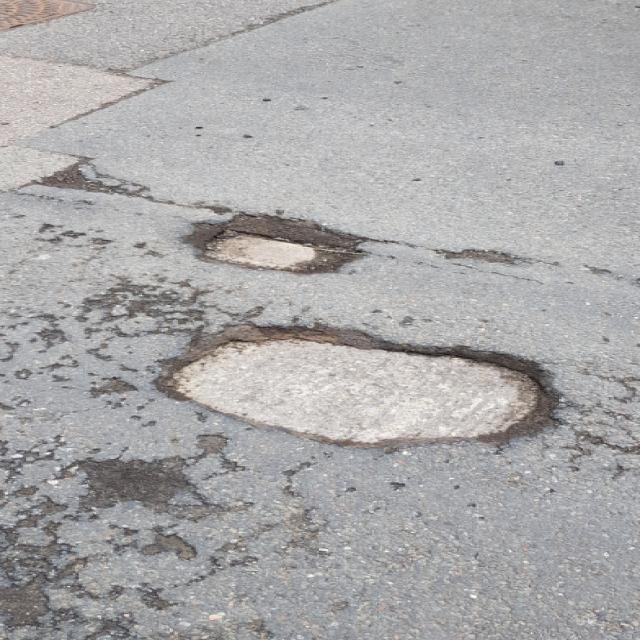pothole: (146, 312, 576, 451), (174, 210, 380, 274)
